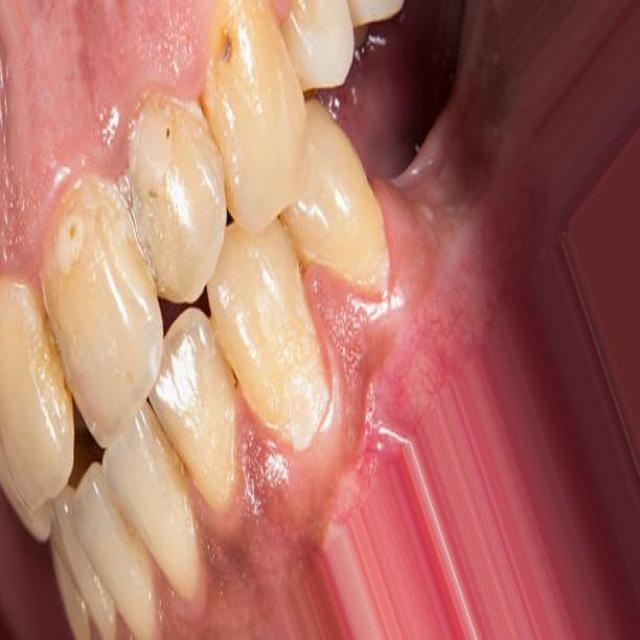caries: (196, 0, 264, 79)
